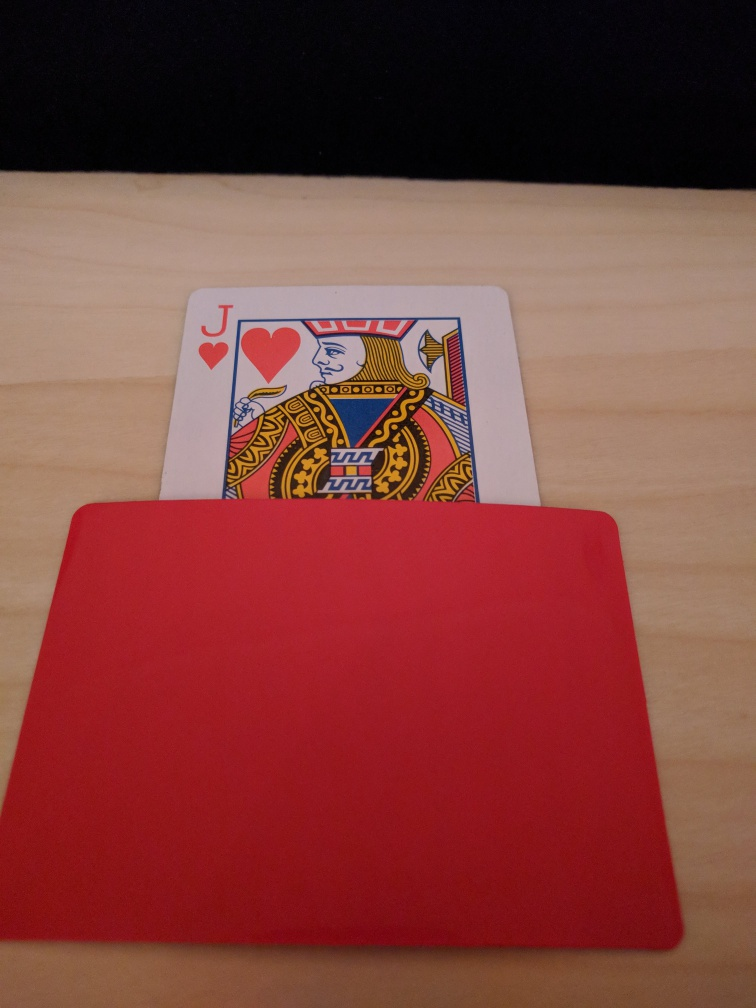jack: (162, 284, 543, 509)
